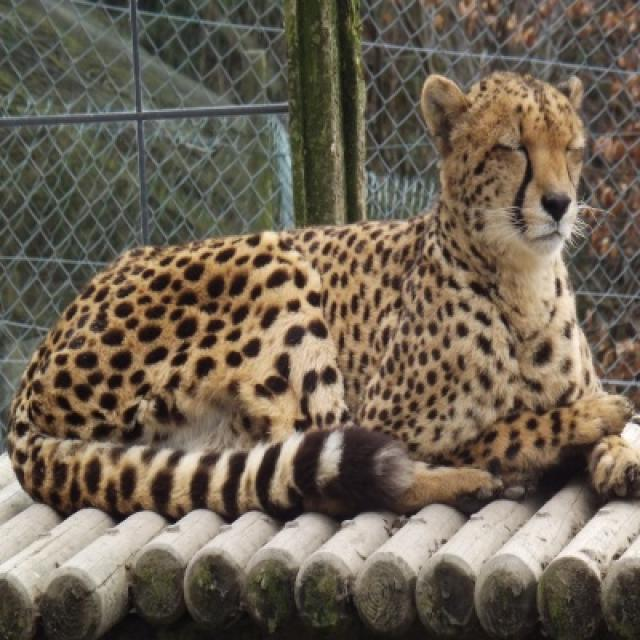Cheetah: (7, 71, 638, 509)
